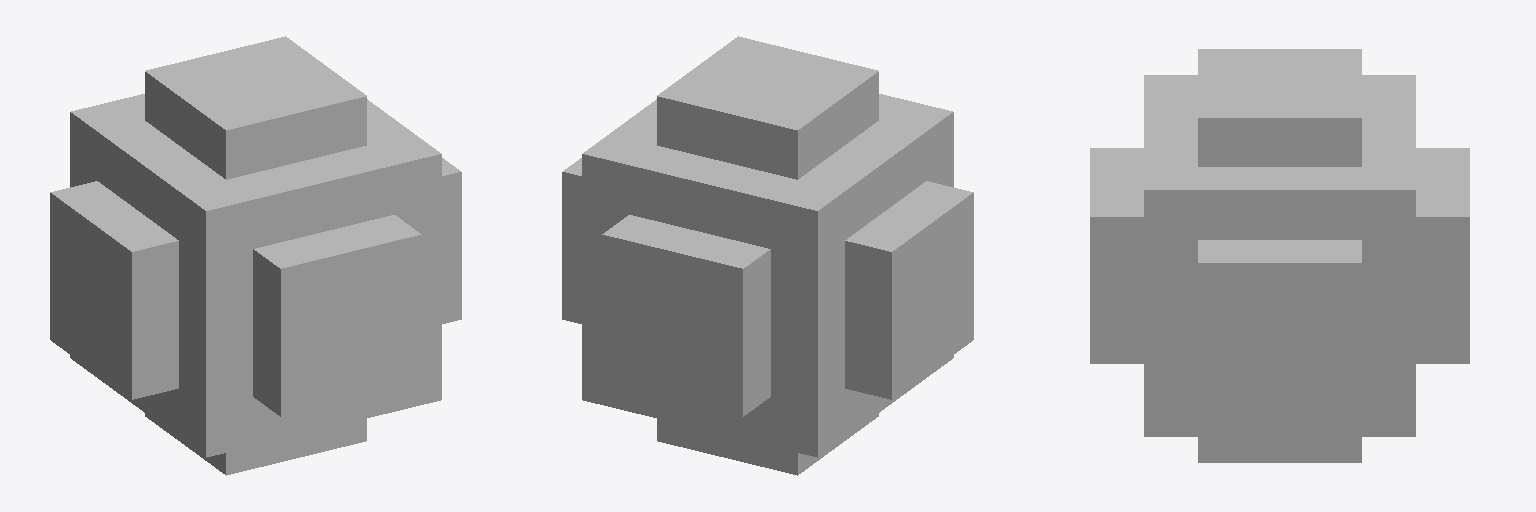
File: blob.obj
3 views of the same model, side by side, from view 1: azimuth 30°, elevation 25°; view 2: azimuth 150°, elevation 25°; view 3: azimuth 270°, elevation 25° (orthographic).
Parts seen in each view (by area): view 1: object 1; view 2: object 1; view 3: object 1.
Part boxes in pixels (left/top/right/bottom): object 1: left=50, top=36, right=461, bottom=475; object 1: left=562, top=36, right=973, bottom=475; object 1: left=1090, top=49, right=1469, bottom=462.
Bounding box in the file's own units: 0.7 × 0.7 × 0.7.